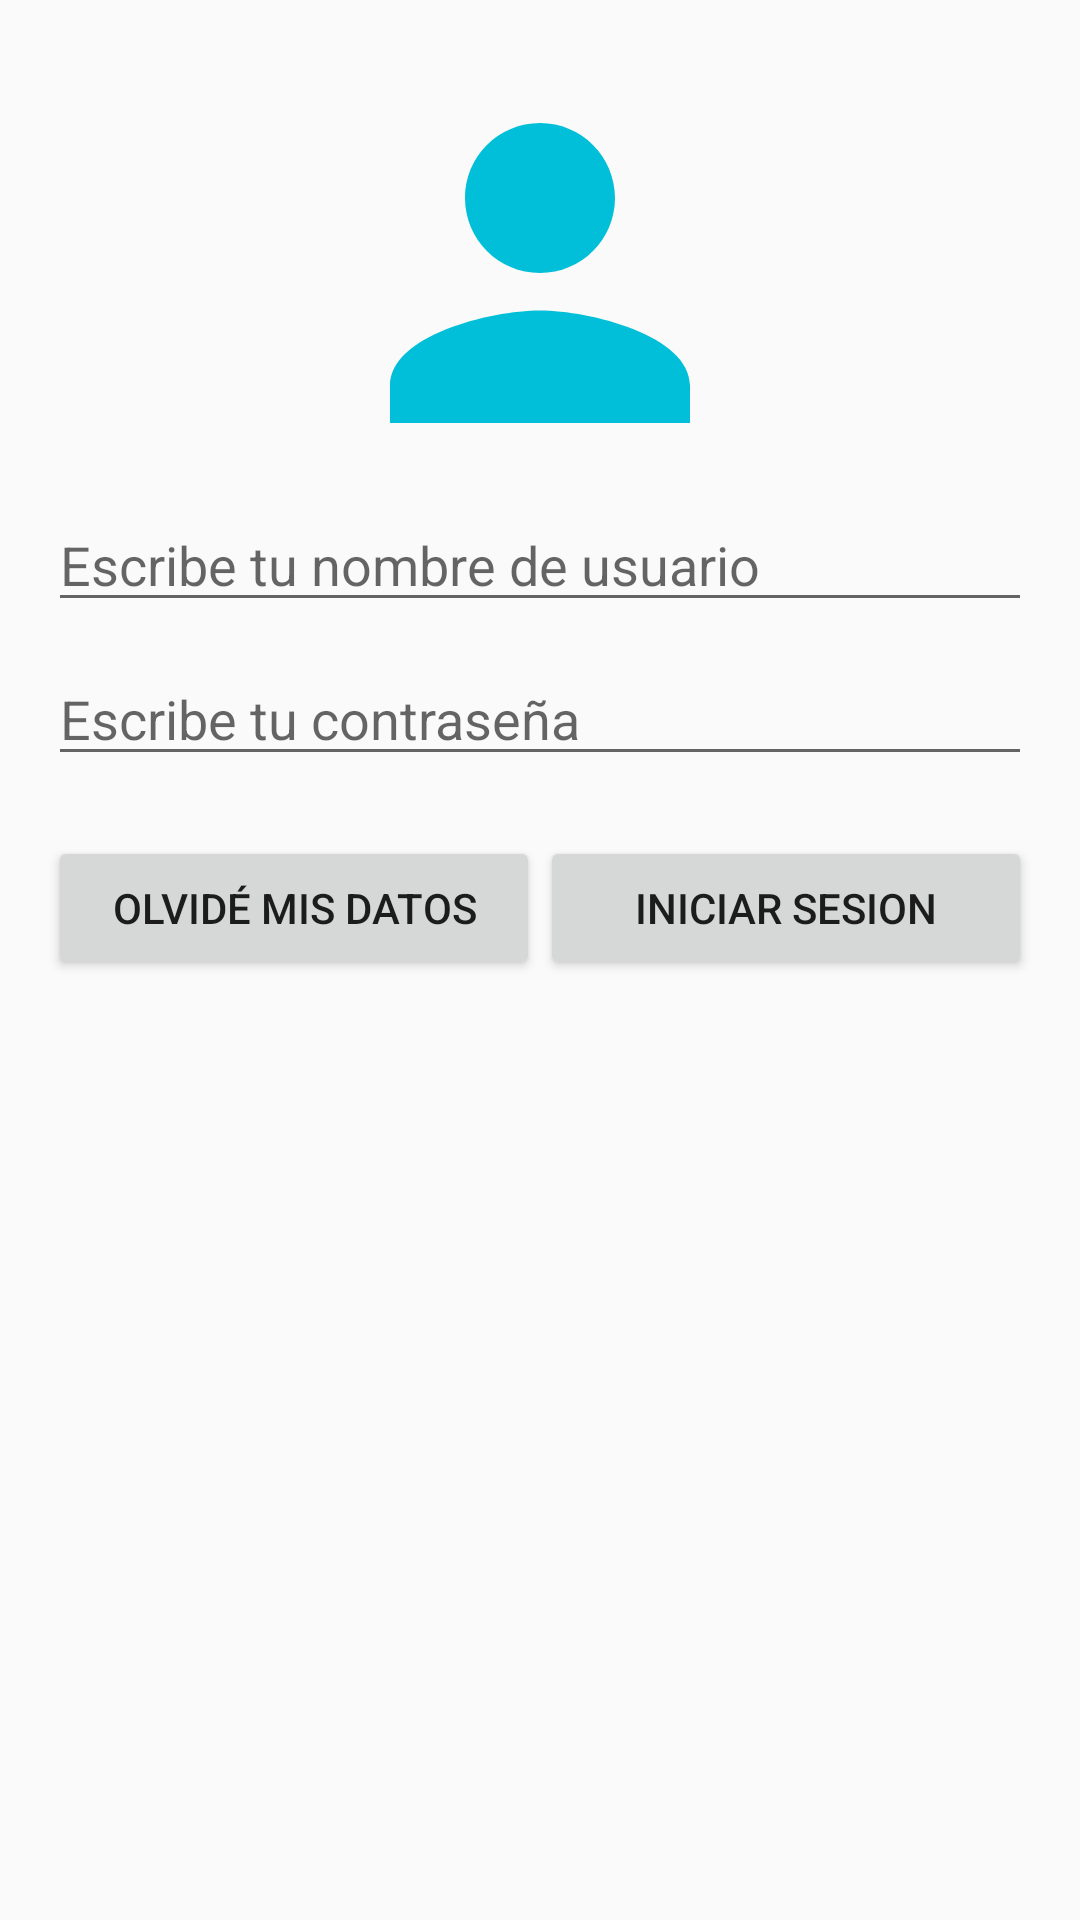

Screen size 1080px×1920px. Icon name, then its center in pixels as (x,y):
person: (540,273)
